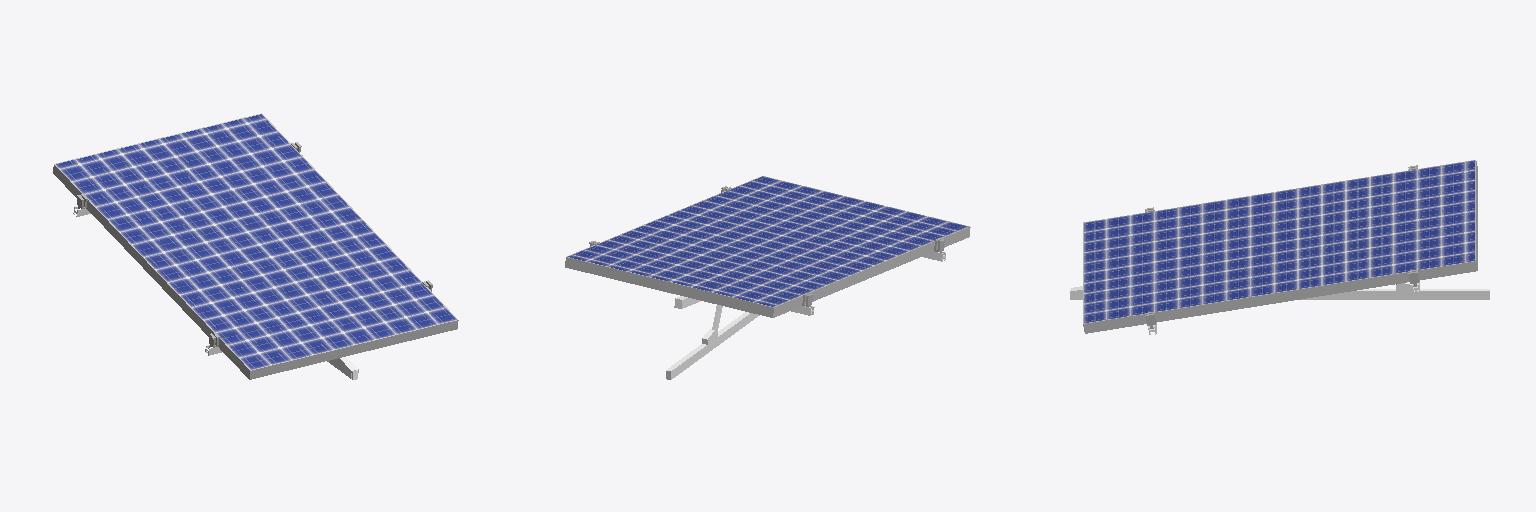
3 renders of one model, left to right at view 1: azimuth 30°, elevation 25°; view 2: azimuth 150°, elevation 25°; view 3: azimuth 270°, elevation 25°, orthographic.
Parts seen in each view (by area): view 1: Sharp_245_1_001; view 2: Sharp_245_1_001, Horizontal_Member_001; view 3: Sharp_245_1_001, Horizontal_Member_001.
Part boxes in pixels (x1,y1,x2,y2): Sharp_245_1_001: (53, 113, 458, 379); Sharp_245_1_001: (565, 176, 970, 317); Horizontal_Member_001: (666, 312, 759, 379); Sharp_245_1_001: (1083, 160, 1477, 333); Horizontal_Member_001: (1070, 289, 1489, 299).
Size of the model in its own units: 42.28 by 16.38 by 68.39.
4 materials, 1 textured.